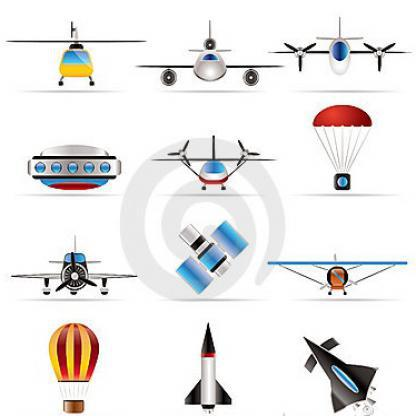CIV_Plane: (139, 18, 274, 90), (2, 242, 136, 298)
